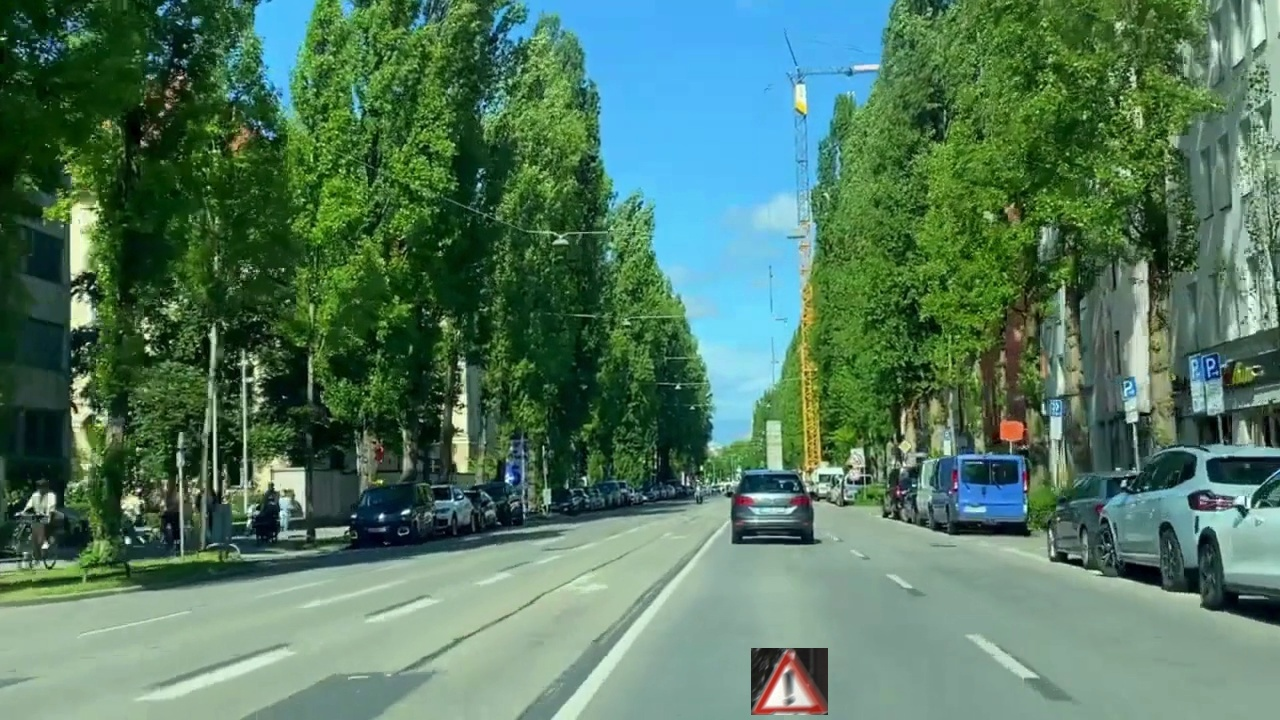Caution: (751, 648, 828, 715)
